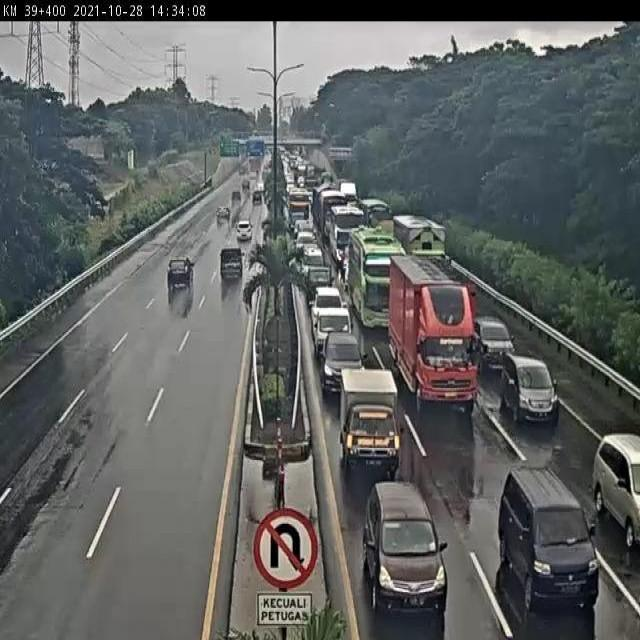big bus: (348, 228, 401, 329), (329, 207, 364, 264)
car: (489, 466, 602, 610), (360, 483, 451, 620), (338, 368, 404, 477), (501, 354, 562, 426), (469, 319, 516, 368), (320, 331, 361, 386), (313, 303, 352, 357), (298, 258, 330, 298), (164, 256, 197, 293), (307, 283, 346, 308), (296, 238, 320, 266), (294, 222, 312, 242)
truck-l-: (389, 256, 481, 415), (392, 212, 456, 284)
